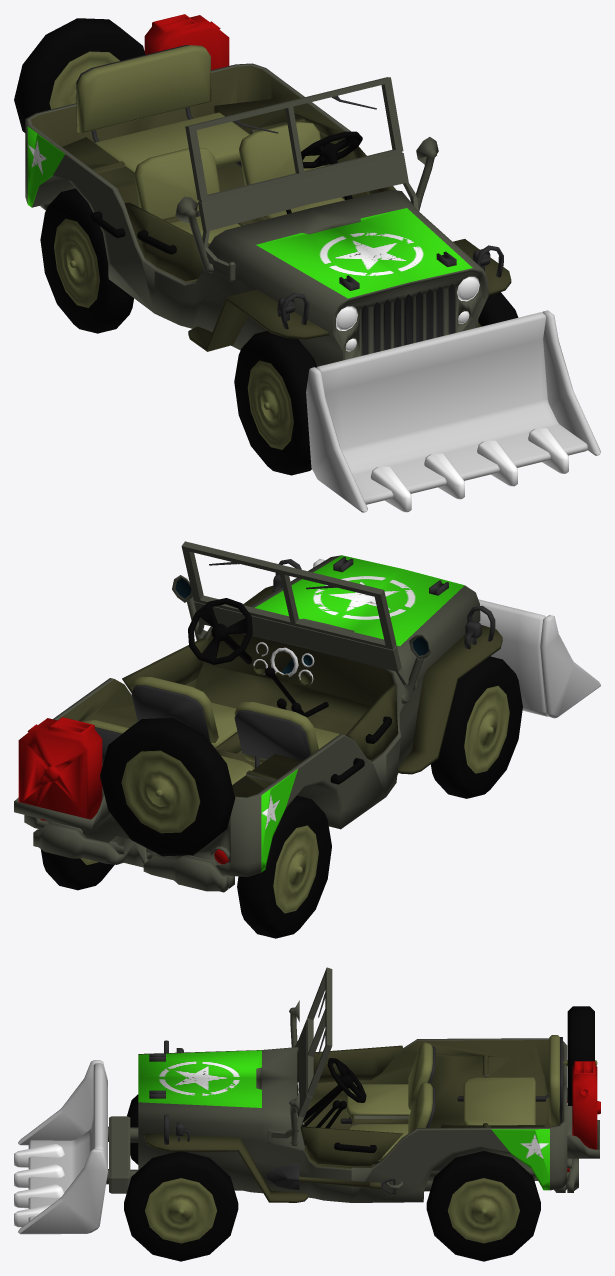
Rendered from Jeep_Car.fbx.
3 views of the same model, one above another, from view 1: azimuth 30°, elevation 25°; view 2: azimuth 150°, elevation 25°; view 3: azimuth 270°, elevation 25° (orthographic). The views are drawn at different scales.
Parts seen in each view (by area): view 1: Jeep, Plane.001, Jeep.014, Ventana, Jeep.005, Jeep.002, Jeep.012, Jeep.009, Jeep.008, Jeep.015, Jeep.011, Jeep.010 (+1 smaller); view 2: Jeep, Jeep.012, Jeep.005, Ventana, Jeep.002, Jeep.011, Plane.001, Jeep.013, Jeep.009, Jeep.008, Jeep.010, Jeep.015 (+3 smaller); view 3: Jeep, Plane.001, Jeep.004, Jeep.003, Jeep.014, Ventana, Jeep.001, Jeep.009, Jeep.011, Jeep.015, Jeep.012, Cube (+5 smaller).
Part boxes in pixels (x1=…): Jeep: x1=25, y1=63, x2=511, y2=366; Plane.001: x1=306, y1=310, x2=600, y2=512; Jeep.014: x1=76, y1=45, x2=249, y2=172; Ventana: x1=185, y1=77, x2=418, y2=281; Jeep.005: x1=234, y1=331, x2=316, y2=475; Jeep.002: x1=40, y1=188, x2=133, y2=333; Jeep.012: x1=14, y1=18, x2=145, y2=132; Jeep.009: x1=134, y1=148, x2=240, y2=243; Jeep.008: x1=239, y1=122, x2=344, y2=218; Jeep.015: x1=124, y1=202, x2=209, y2=281; Jeep.011: x1=144, y1=14, x2=229, y2=70; Jeep.010: x1=301, y1=131, x2=362, y2=199; Jeep: x1=14, y1=555, x2=502, y2=876; Jeep.012: x1=100, y1=718, x2=235, y2=856; Jeep.005: x1=430, y1=656, x2=522, y2=798; Ventana: x1=181, y1=541, x2=416, y2=690; Jeep.002: x1=237, y1=795, x2=331, y2=938; Jeep.011: x1=18, y1=717, x2=102, y2=819; Plane.001: x1=313, y1=559, x2=600, y2=718; Jeep.013: x1=33, y1=821, x2=234, y2=892; Jeep.009: x1=234, y1=702, x2=339, y2=768; Jeep.008: x1=131, y1=677, x2=237, y2=747; Jeep.010: x1=188, y1=598, x2=252, y2=664; Jeep.015: x1=346, y1=684, x2=398, y2=759; Jeep: x1=138, y1=1000, x2=599, y2=1202; Plane.001: x1=14, y1=1060, x2=107, y2=1234; Jeep.004: x1=426, y1=1151, x2=540, y2=1261; Jeep.003: x1=124, y1=1151, x2=238, y2=1261; Jeep.014: x1=457, y1=1035, x2=562, y2=1125; Ventana: x1=267, y1=967, x2=332, y2=1143; Jeep.001: x1=302, y1=1126, x2=402, y2=1166; Jeep.009: x1=340, y1=1042, x2=435, y2=1123; Jeep.011: x1=572, y1=1061, x2=600, y2=1149; Jeep.015: x1=313, y1=1045, x2=403, y2=1082; Jeep.012: x1=563, y1=1006, x2=597, y2=1105; Cube: x1=109, y1=1116, x2=130, y2=1193.
Size of the model in its own units: 158 by 157 by 390.
